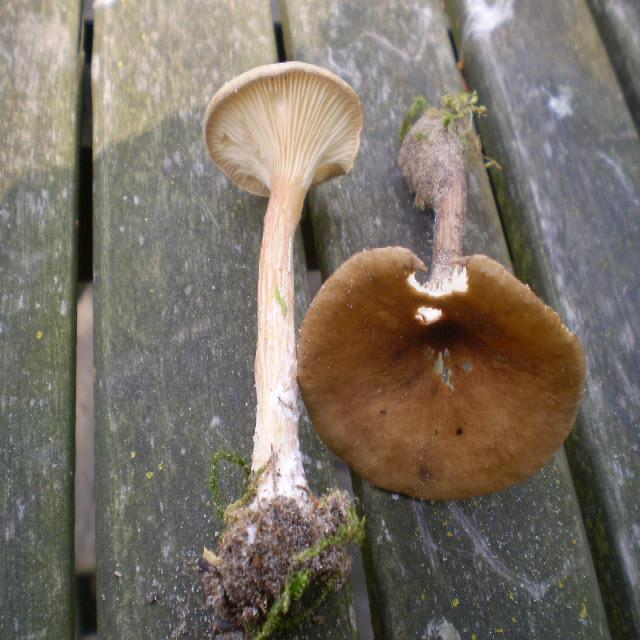Clitocybe maxima: (301, 107, 588, 501), (199, 61, 363, 603)
